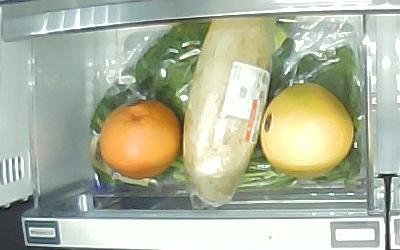grapefruit: (260, 83, 353, 177), (100, 100, 182, 179)
